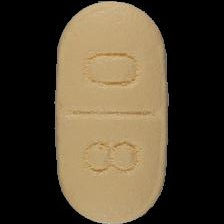45865-382: (0, 0, 224, 224)
